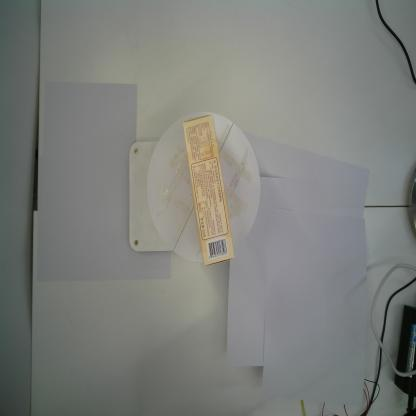Dessert: (182, 113, 234, 267)
